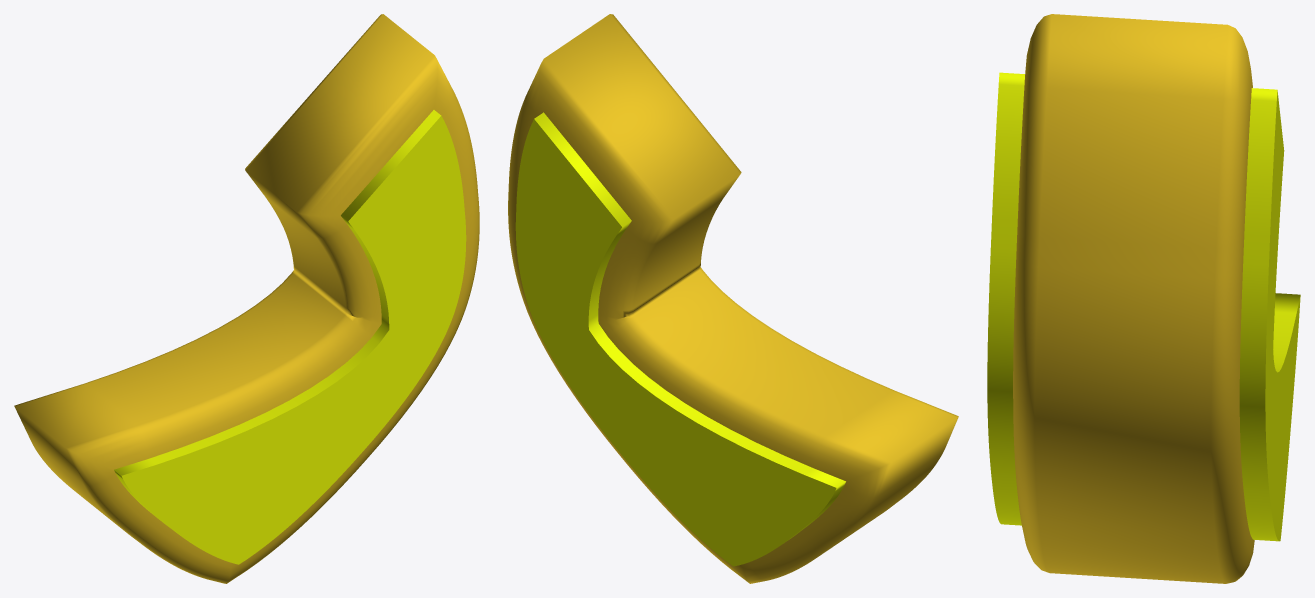
The picture shows the model from 3 angles, left to right: view 1: azimuth 30°, elevation 25°; view 2: azimuth 150°, elevation 25°; view 3: azimuth 270°, elevation 25°; orthographic projection. The views are drawn at different scales.
Visible parts, largest first — view 1: text 2, Text; view 2: text 2, Text; view 3: text 2, Text.
Part boxes in pixels (box(x1,y1,x2,y2)): text 2: box(14, 14, 479, 583); Text: box(114, 110, 466, 564); text 2: box(508, 14, 958, 583); Text: box(515, 112, 845, 566); text 2: box(1013, 14, 1254, 583); Text: box(987, 72, 1300, 541).
Size of the model in its own units: 30.52 by 34.51 by 13.66.
